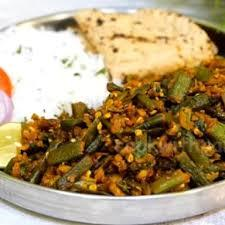bhindi: (77, 105, 225, 181)
